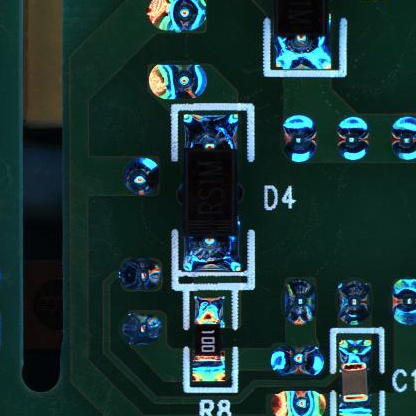spot: (149, 62, 207, 102), (146, 1, 209, 35), (270, 345, 325, 378), (282, 114, 318, 164), (123, 156, 163, 200), (335, 115, 372, 162), (284, 278, 317, 327), (118, 258, 164, 293), (339, 277, 369, 327), (121, 312, 163, 346), (268, 391, 327, 415), (390, 114, 416, 162), (390, 278, 414, 326)
